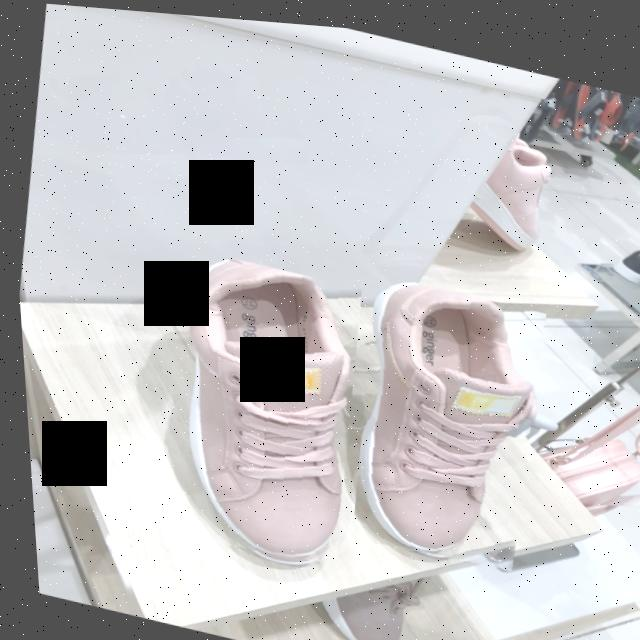shoe: (183, 257, 346, 554), (354, 278, 530, 549)
